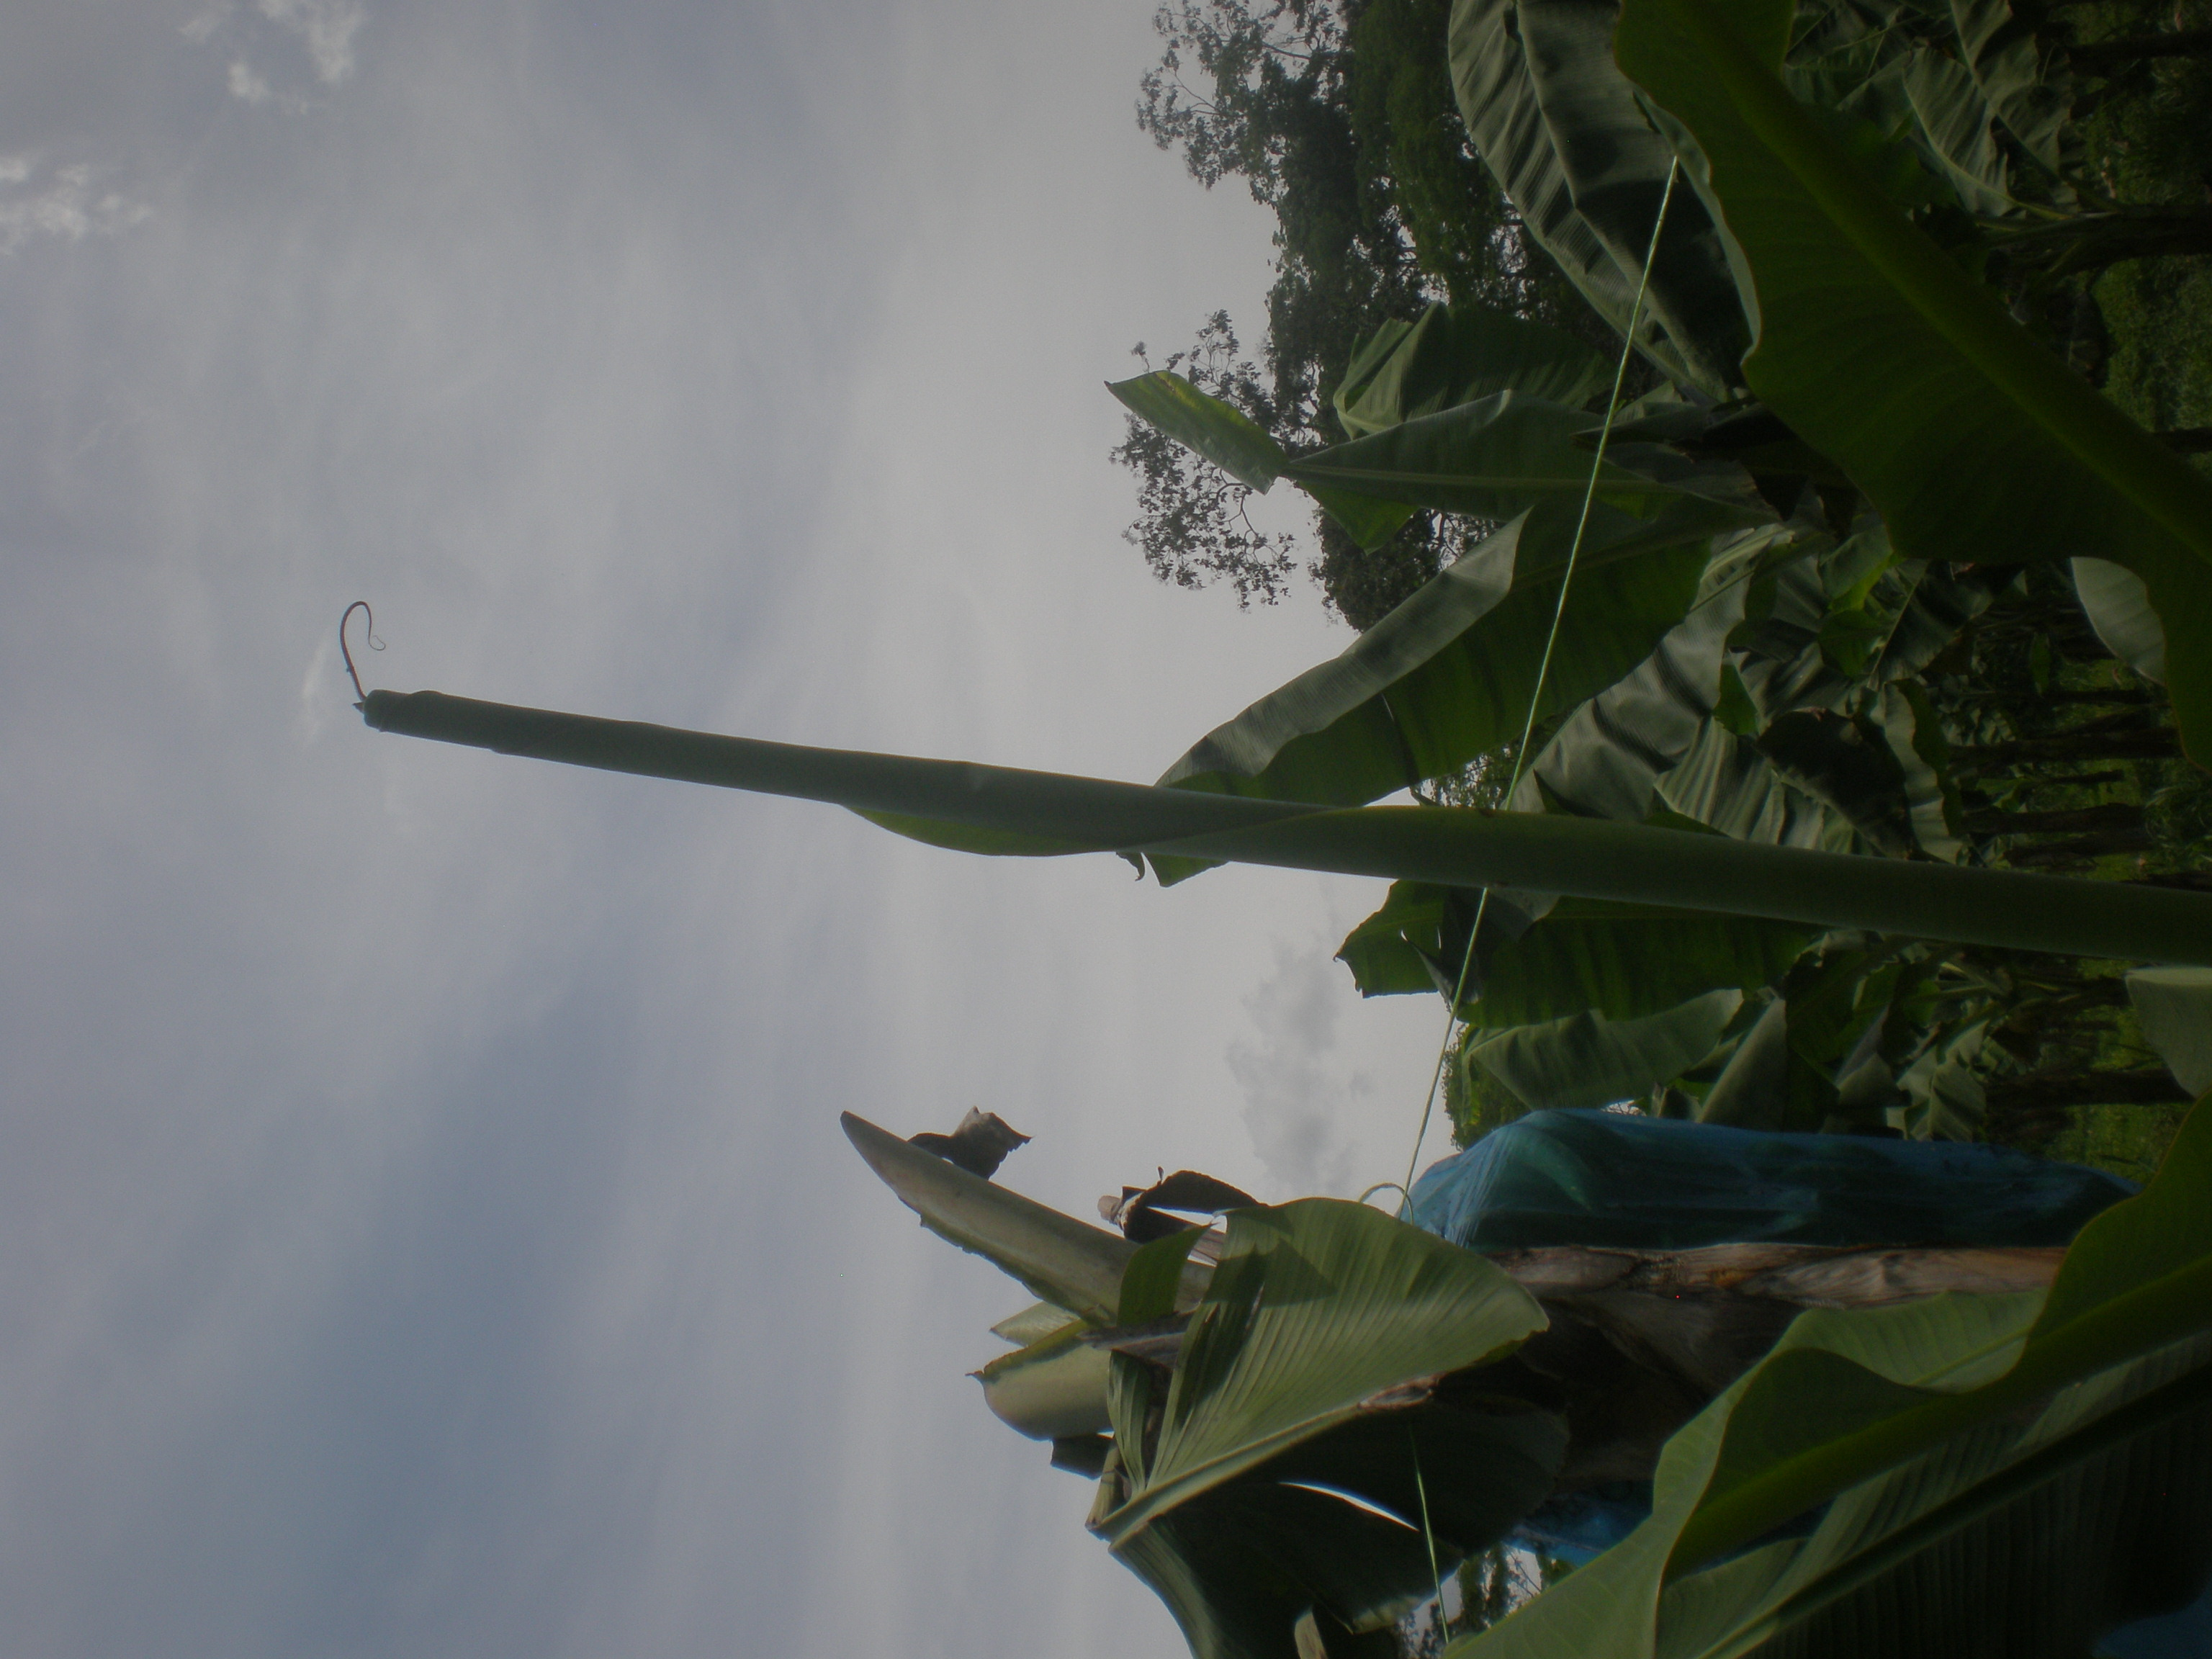candleleafs: (354, 687, 2209, 979)
